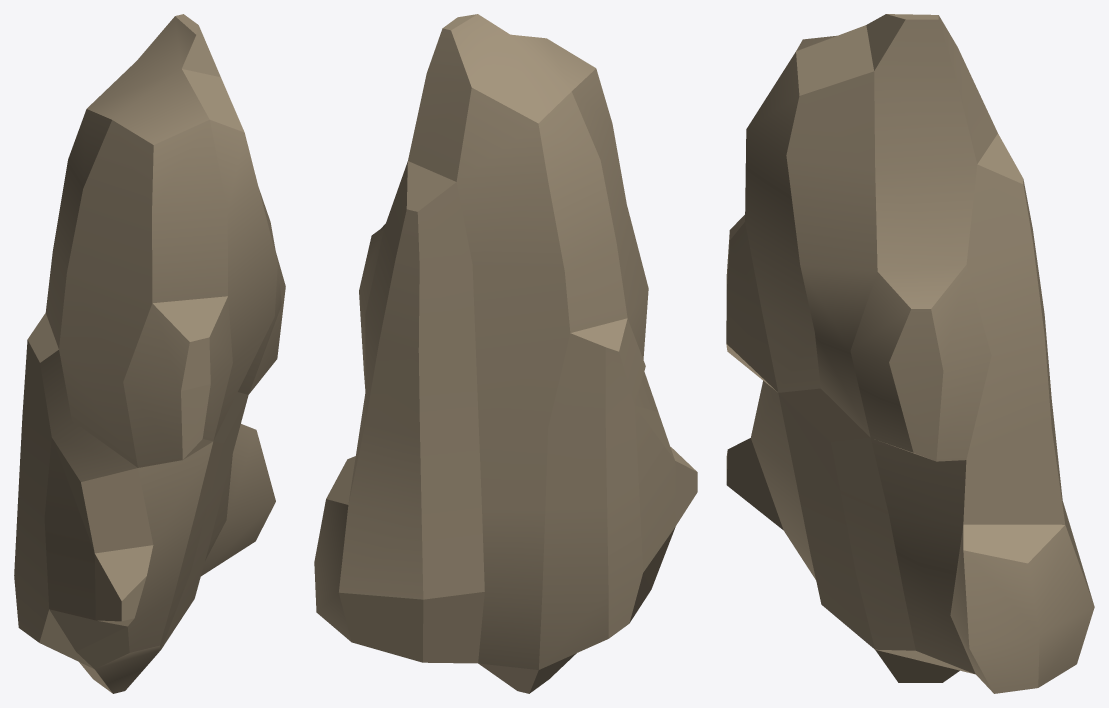
Rendered from Rock_01.glb.
3 renders of one model, left to right at view 1: azimuth 30°, elevation 25°; view 2: azimuth 150°, elevation 25°; view 3: azimuth 270°, elevation 25°, orthographic. The views are drawn at different scales.
Visible parts, largest first — view 1: Rock_Isle_1; view 2: Rock_Isle_1; view 3: Rock_Isle_1.
Boxes of the visible parts, x1,y1,x2,y2 form: Rock_Isle_1: (14, 14, 285, 693); Rock_Isle_1: (314, 14, 697, 693); Rock_Isle_1: (726, 14, 1094, 693).
Size of what is drawn, in the model's own units: 2.16 by 4.85 by 2.3.
